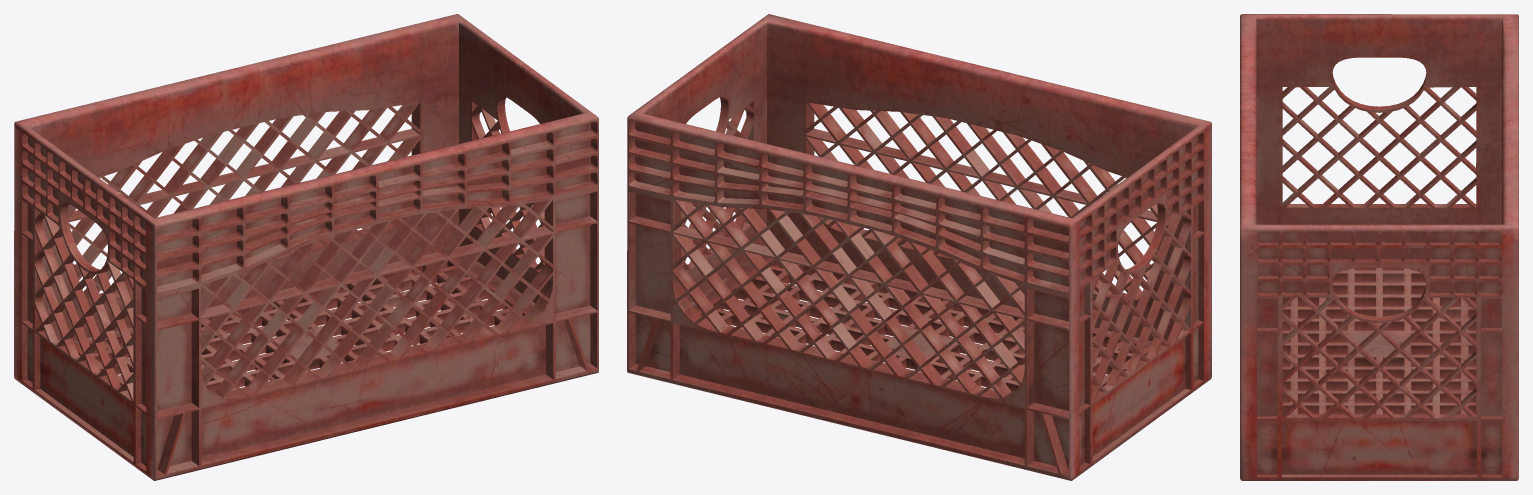
Rendered from plastic_crate_03.glb.
3 views of the same model, side by side, from view 1: azimuth 30°, elevation 25°; view 2: azimuth 150°, elevation 25°; view 3: azimuth 270°, elevation 25° (orthographic).
Visible parts, largest first — view 1: plastic_crate_03; view 2: plastic_crate_03; view 3: plastic_crate_03.
Part boxes in pixels (x1=…): plastic_crate_03: x1=14, y1=14, x2=598, y2=480; plastic_crate_03: x1=627, y1=14, x2=1211, y2=480; plastic_crate_03: x1=1240, y1=14, x2=1518, y2=480.
Bounding box in the file's own units: 0.4811 × 0.266 × 0.265.
Materials: 1 (1 with a texture image).
